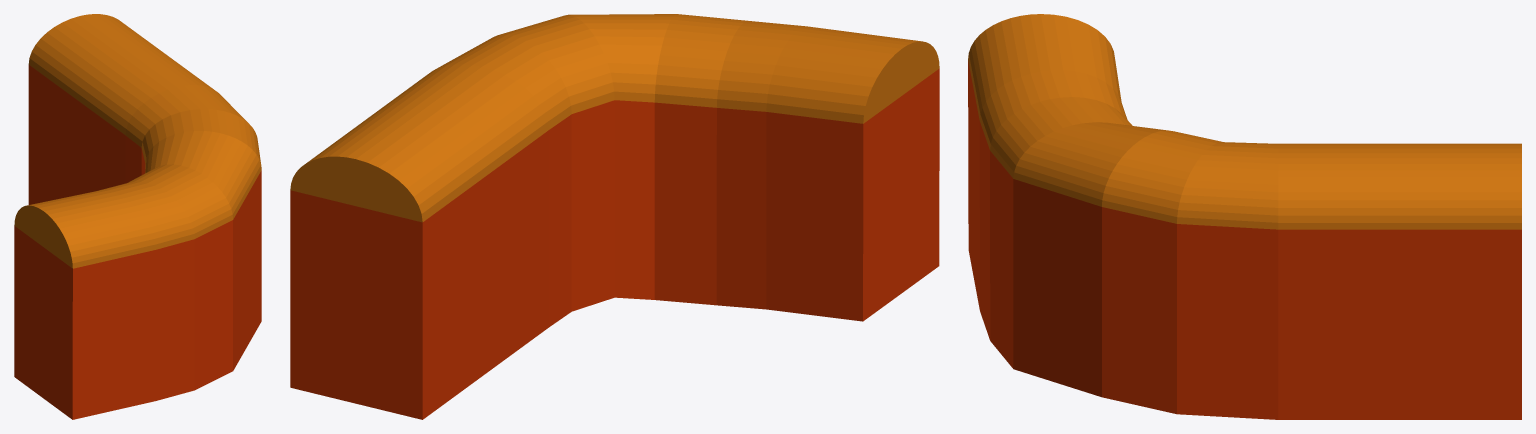
Rendered from WallBend.fbx.
3 views of the same model, side by side, from view 1: azimuth 30°, elevation 25°; view 2: azimuth 150°, elevation 25°; view 3: azimuth 270°, elevation 25° (orthographic). The views are drawn at different scales.
Visible parts, largest first — view 1: Wall; view 2: Wall; view 3: Wall.
Part boxes in pixels (x1,y1,x2,y2): Wall: [14, 14, 261, 419]; Wall: [290, 14, 939, 419]; Wall: [968, 14, 1521, 419].
Bounding box in the file's own units: 5.47 × 3.71 × 7.52.
